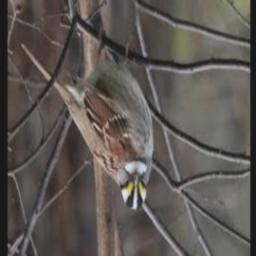Sparrow: (21, 40, 154, 210)
